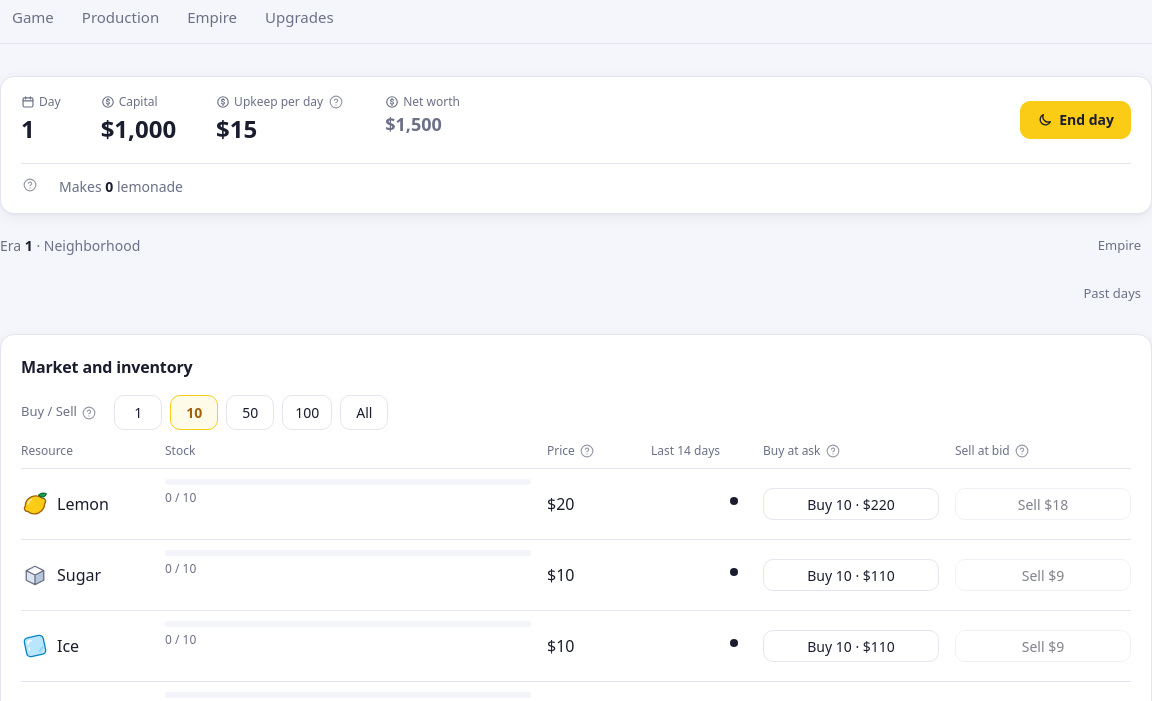
Test: GameComponent › past days › shows the empty state for a run with no ended days
The image size is (1152, 701).
Click the button "Past days" at (1112, 294), box [1072,278,1151,310]
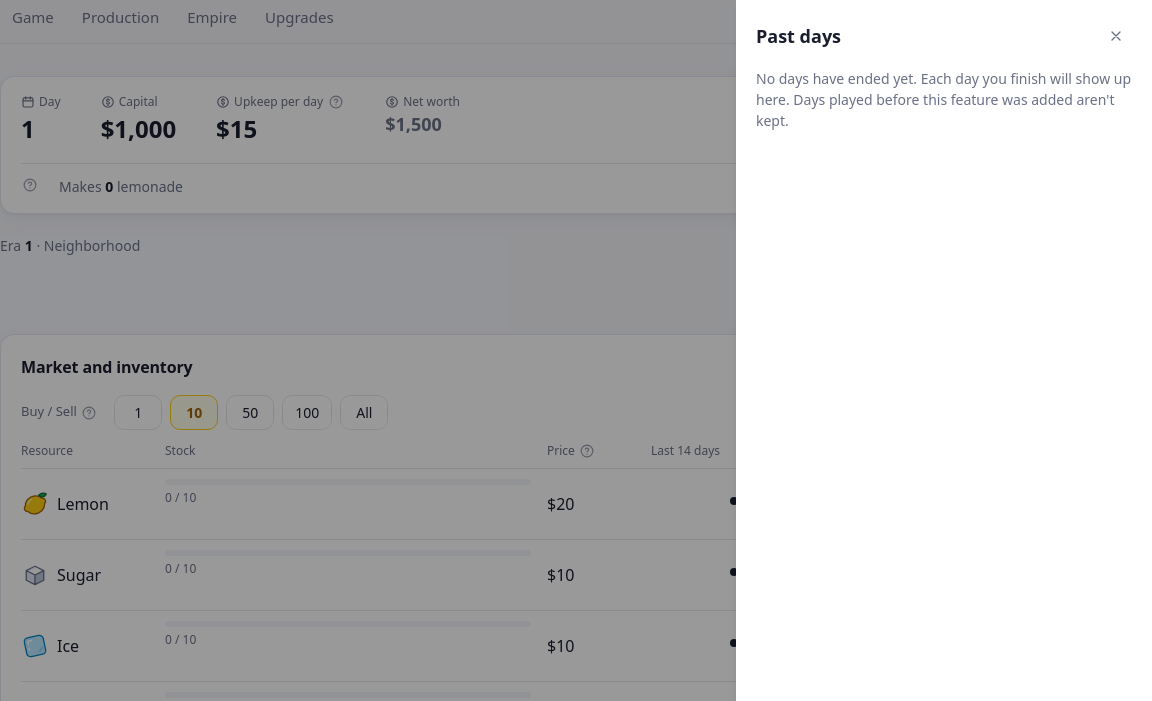
Expected: the text with class "empty" is shown, [756,68,1132,131]
